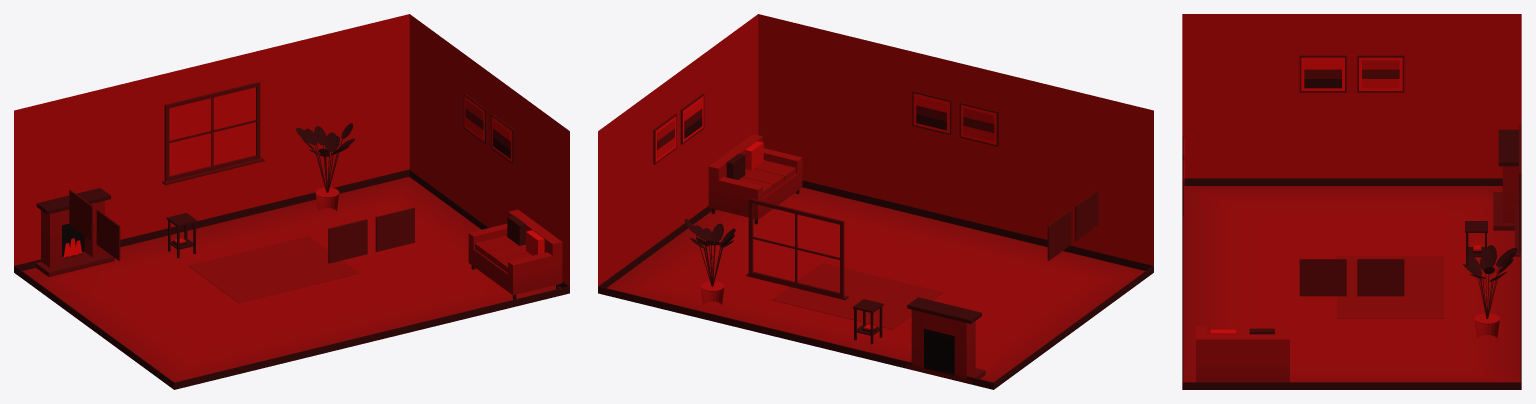
File: room_cabin.glb
3 views of the same model, side by side, from view 1: azimuth 30°, elevation 25°; view 2: azimuth 150°, elevation 25°; view 3: azimuth 270°, elevation 25° (orthographic). The views are drawn at different scales.
Parts seen in each view (by area): view 1: Shell, CenterWindow, TankRug, CenterChair, LeftFire, CenterArtF, RightPlant, CenterArtRW, CenterArtLW, LeftTable; view 2: Shell, CenterChair, TankRug, LeftFire, CenterArtF, CenterWindow, CenterArtRW, CenterArtLW, RightPlant, LeftTable; view 3: Shell, CenterChair, TankRug, CenterArtLW, CenterArtRW, LeftFire, RightPlant, CenterWindow, LeftTable.
Boxes of the visible parts, x1=… form: Shell: x1=14, y1=14, x2=569, y2=389; CenterWindow: x1=162, y1=82, x2=264, y2=185; TankRug: x1=188, y1=236, x2=359, y2=302; CenterChair: x1=468, y1=209, x2=562, y2=299; LeftFire: x1=36, y1=188, x2=114, y2=276; CenterArtF: x1=328, y1=207, x2=414, y2=263; RightPlant: x1=296, y1=123, x2=354, y2=210; CenterArtRW: x1=463, y1=93, x2=514, y2=164; CenterArtLW: x1=69, y1=190, x2=120, y2=260; LeftTable: x1=166, y1=213, x2=197, y2=258; Shell: x1=598, y1=14, x2=1153, y2=389; CenterChair: x1=708, y1=134, x2=802, y2=224; TankRug: x1=772, y1=263, x2=943, y2=329; LeftFire: x1=906, y1=297, x2=985, y2=384; CenterArtF: x1=912, y1=91, x2=998, y2=146; CenterWindow: x1=746, y1=198, x2=848, y2=300; CenterArtRW: x1=653, y1=93, x2=704, y2=164; CenterArtLW: x1=1047, y1=190, x2=1098, y2=260; RightPlant: x1=684, y1=219, x2=735, y2=305; LeftTable: x1=853, y1=299, x2=883, y2=344; Shell: x1=1182, y1=14, x2=1521, y2=389; CenterChair: x1=1196, y1=326, x2=1289, y2=382; TankRug: x1=1337, y1=256, x2=1444, y2=318; CenterArtLW: x1=1299, y1=55, x2=1404, y2=92; CenterArtRW: x1=1299, y1=259, x2=1404, y2=296; LeftFire: x1=1493, y1=129, x2=1518, y2=230; RightPlant: x1=1463, y1=245, x2=1517, y2=337; CenterWindow: x1=1515, y1=124, x2=1521, y2=256; LeftTable: x1=1465, y1=221, x2=1487, y2=265.
Bounding box in the file's own units: 720 × 282 × 505.
